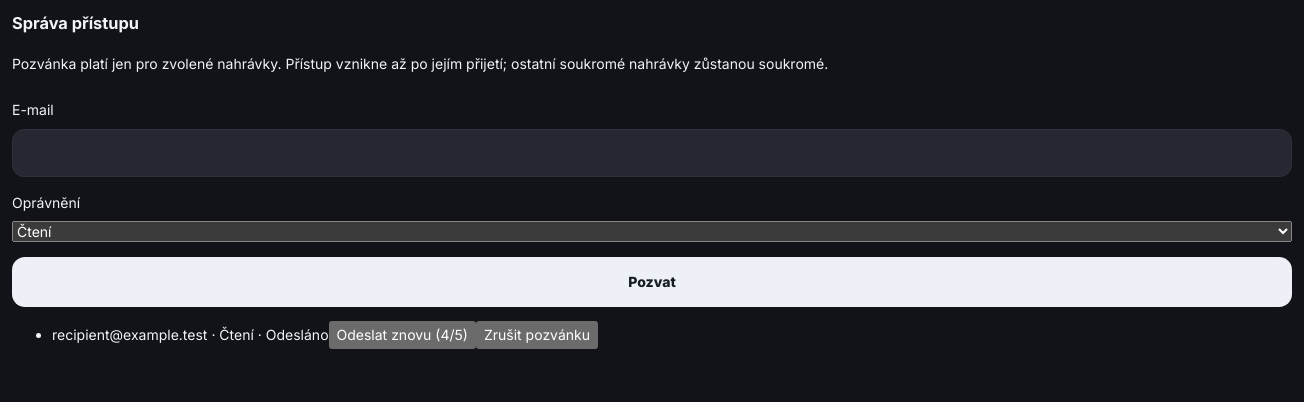
it: manager outcomes stay truthful › refreshes accepted-first conflict into active access without claiming revoke success
Click the button "Zrušit pozvánku": [537, 335] box [476,321,598,349]
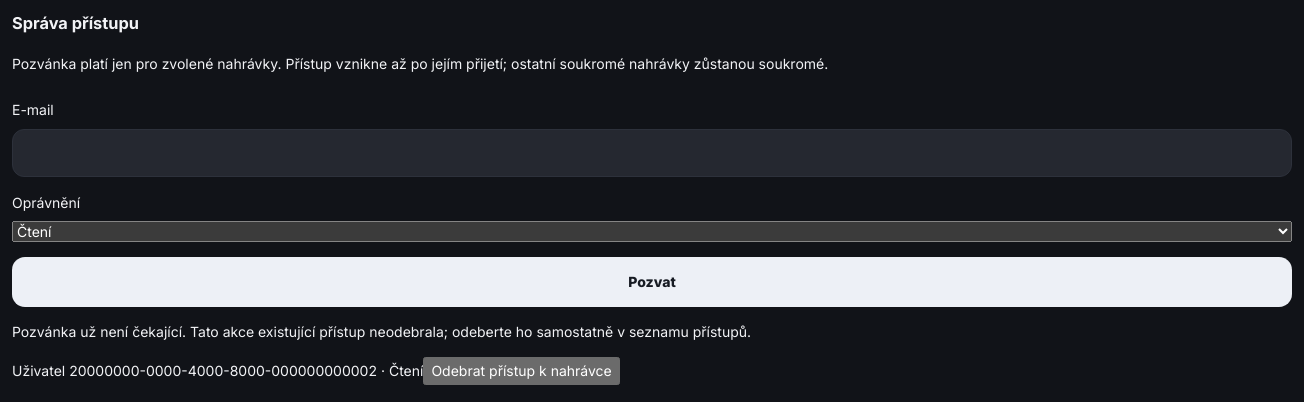
expect the text "Pozvánka už není čekající" is shown: met, box [12,323,751,340]
expect the text "Odebrat přístup k nahrávce" is shown: met, box [423,357,620,385]
